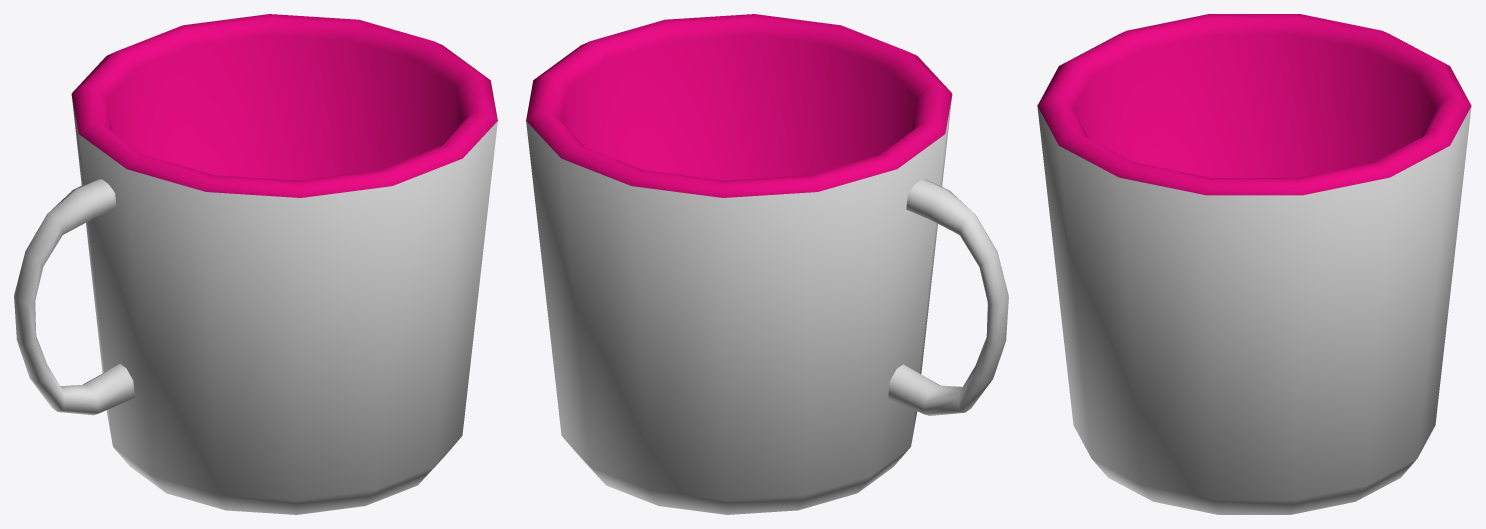
The model's file is Magenta_mug.fbx.
3 views of the same model, side by side, from view 1: azimuth 30°, elevation 25°; view 2: azimuth 150°, elevation 25°; view 3: azimuth 270°, elevation 25° (orthographic).
Visible parts, largest first — view 1: Magenta_mug; view 2: Magenta_mug; view 3: Magenta_mug.
Boxes of the visible parts, <box> form: Magenta_mug: <box>14,14,497,514</box>; Magenta_mug: <box>526,14,1008,514</box>; Magenta_mug: <box>1037,14,1471,514</box>.
Bounding box in the file's own units: 0.0338 × 0.0249 × 0.0281.
1 material, 1 textured.
